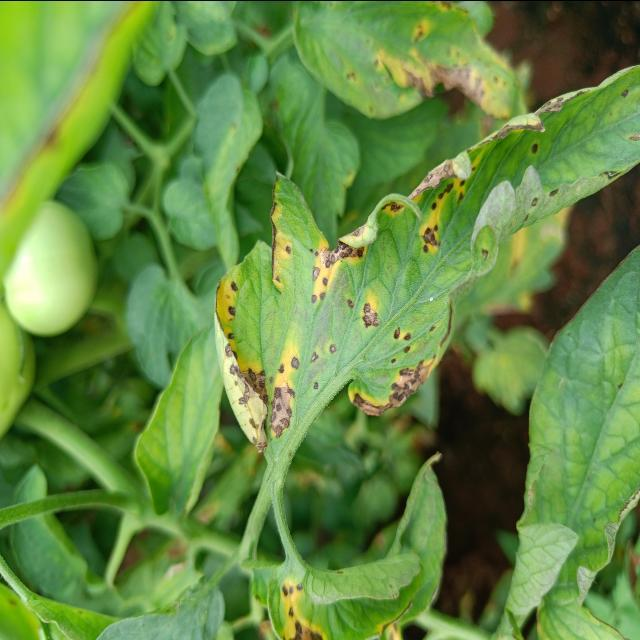Tomato mosaic virus leaf: (210, 55, 640, 458), (261, 544, 431, 640)
